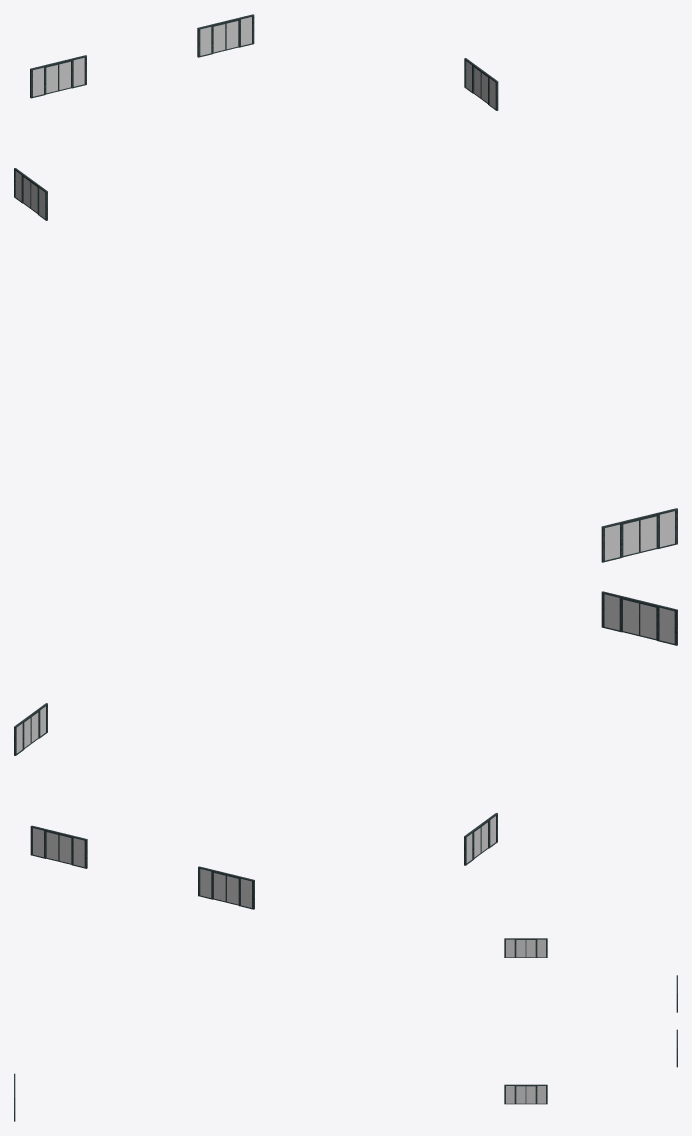
File: PuertaEntradaPrincipalMap2.fbx
3 renders of one model, top to bottom at view 1: azimuth 30°, elevation 25°; view 2: azimuth 150°, elevation 25°; view 3: azimuth 270°, elevation 25°, orthographic. The views are drawn at different scales.
Parts seen in each view (by area): view 1: MarcoElec, MarcoElec.002, MarcoElec.001; view 2: MarcoElec, MarcoElec.002, MarcoElec.001, MarcoElec.003, MarcoElec.004, Puer1, Puer2; view 3: MarcoElec.003, MarcoElec.004.
Boxes of the visible parts, box(x1,y1,x2,y2) form: MarcoElec: box(601, 508, 677, 562); MarcoElec.002: box(197, 14, 254, 57); MarcoElec.001: box(30, 55, 86, 98); MarcoElec: box(601, 591, 677, 645); MarcoElec.002: box(30, 825, 87, 868); MarcoElec.001: box(198, 866, 254, 909); MarcoElec.003: box(14, 703, 47, 755); MarcoElec.004: box(464, 813, 497, 865); Puer1: box(622, 598, 639, 636); Puer2: box(639, 603, 656, 640); MarcoElec.003: box(504, 1084, 547, 1104); MarcoElec.004: box(504, 938, 547, 957).
Bounding box in the file's own units: 7231 × 2250 × 13811.
Materials: 2 (1 with a texture image).
